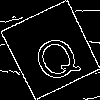Q: (26, 25, 84, 87)
